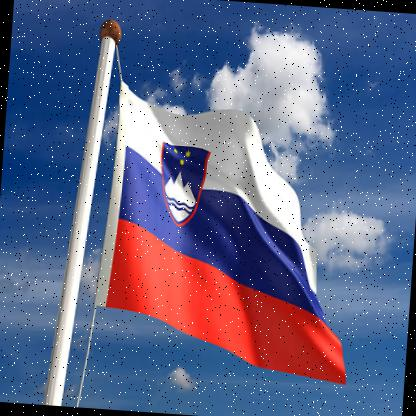si: (97, 74, 370, 391)
